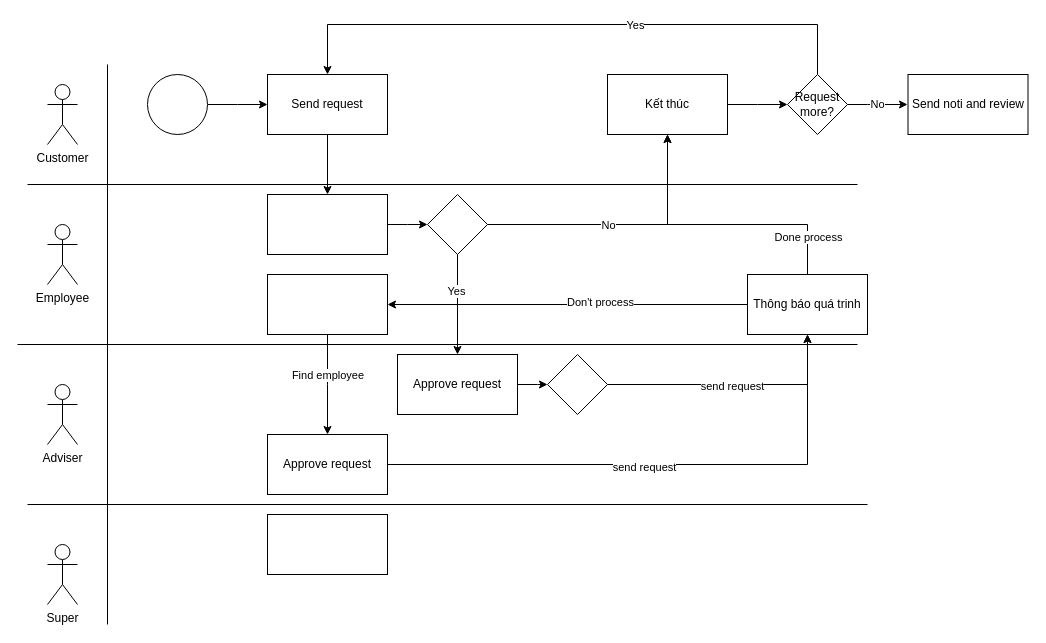
The diagram is 1046 pixels wide and 643 high, and some of its shapes have lost their labels. Here are the shapes that lost their labels. From the top down, the centre of each, then its label:
the point at 177,104: Start
the point at 327,224: Receive request
the point at 327,304: Create request
the point at 577,384: Done?
the point at 327,544: List request?
